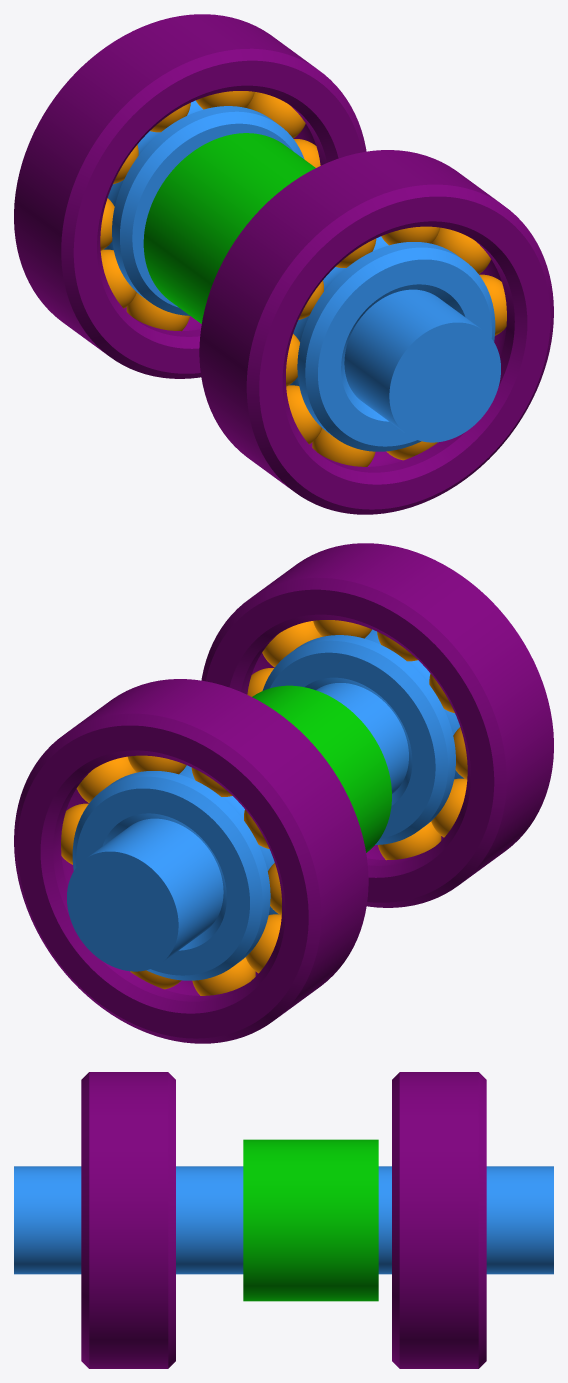
Rendered from assembly.glb.
3 renders of one model, top to bottom at view 1: azimuth 30°, elevation 25°; view 2: azimuth 150°, elevation 25°; view 3: azimuth 270°, elevation 25°, orthographic. The views are drawn at different scales.
Visible parts, largest first — view 1: bearing-b/deep-groove-bearing-608/outer-ring, bearing-a/deep-groove-bearing-608/outer-ring, shaft/shaft-d8x40/body, bearing-b/deep-groove-bearing-608/inner-ring, spacer/spacer-12x8x10/body, bearing-a/deep-groove-bearing-608/inner-ring, bearing-a/deep-groove-bearing-608/ball-2, bearing-b/deep-groove-bearing-608/ball-2, bearing-a/deep-groove-bearing-608/ball-8, bearing-b/deep-groove-bearing-608/ball-8, bearing-b/deep-groove-bearing-608/ball-7, bearing-a/deep-groove-bearing-608/ball-7 (+3 smaller); view 2: bearing-a/deep-groove-bearing-608/outer-ring, bearing-b/deep-groove-bearing-608/outer-ring, shaft/shaft-d8x40/body, bearing-a/deep-groove-bearing-608/inner-ring, bearing-b/deep-groove-bearing-608/inner-ring, spacer/spacer-12x8x10/body, bearing-b/deep-groove-bearing-608/ball-2, bearing-a/deep-groove-bearing-608/ball-2, bearing-a/deep-groove-bearing-608/ball-8, bearing-b/deep-groove-bearing-608/ball-8, bearing-a/deep-groove-bearing-608/ball-7, bearing-b/deep-groove-bearing-608/ball-7 (+3 smaller); view 3: bearing-a/deep-groove-bearing-608/outer-ring, bearing-b/deep-groove-bearing-608/outer-ring, shaft/shaft-d8x40/body, spacer/spacer-12x8x10/body.
Boxes of the visible parts, x1,y1,x2,y2 form: bearing-b/deep-groove-bearing-608/outer-ring: [199, 150, 553, 514]; bearing-a/deep-groove-bearing-608/outer-ring: [14, 14, 366, 378]; shaft/shaft-d8x40/body: [344, 289, 500, 442]; bearing-b/deep-groove-bearing-608/inner-ring: [289, 236, 495, 451]; spacer/spacer-12x8x10/body: [143, 133, 315, 323]; bearing-a/deep-groove-bearing-608/inner-ring: [103, 100, 304, 315]; bearing-a/deep-groove-bearing-608/ball-2: [246, 92, 305, 138]; bearing-b/deep-groove-bearing-608/ball-2: [431, 227, 491, 273]; bearing-a/deep-groove-bearing-608/ball-8: [126, 292, 189, 331]; bearing-b/deep-groove-bearing-608/ball-8: [312, 428, 375, 466]; bearing-b/deep-groove-bearing-608/ball-7: [286, 385, 321, 444]; bearing-a/deep-groove-bearing-608/ball-7: [100, 249, 136, 308]; bearing-a/deep-groove-bearing-608/outer-ring: [14, 679, 368, 1043]; bearing-b/deep-groove-bearing-608/outer-ring: [201, 543, 553, 907]; shaft/shaft-d8x40/body: [67, 683, 408, 971]; bearing-a/deep-groove-bearing-608/inner-ring: [72, 765, 278, 980]; bearing-b/deep-groove-bearing-608/inner-ring: [262, 629, 464, 844]; spacer/spacer-12x8x10/body: [252, 685, 391, 852]; bearing-b/deep-groove-bearing-608/ball-2: [262, 621, 321, 667]; bearing-a/deep-groove-bearing-608/ball-2: [76, 756, 136, 802]; bearing-a/deep-groove-bearing-608/ball-8: [192, 957, 255, 995]; bearing-b/deep-groove-bearing-608/ball-8: [378, 821, 441, 860]; bearing-a/deep-groove-bearing-608/ball-7: [246, 914, 281, 973]; bearing-b/deep-groove-bearing-608/ball-7: [431, 778, 467, 837]; bearing-a/deep-groove-bearing-608/outer-ring: [392, 1072, 486, 1368]; bearing-b/deep-groove-bearing-608/outer-ring: [81, 1072, 175, 1368]; shaft/shaft-d8x40/body: [14, 1166, 553, 1274]; spacer/spacer-12x8x10/body: [243, 1139, 378, 1301].
Bounding box in the file's own units: 0.022 × 0.022 × 0.04.
